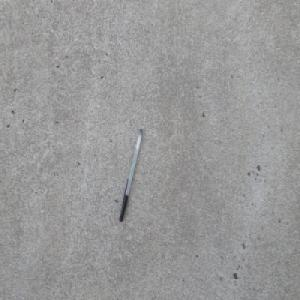Pen: (118, 127, 143, 223)
